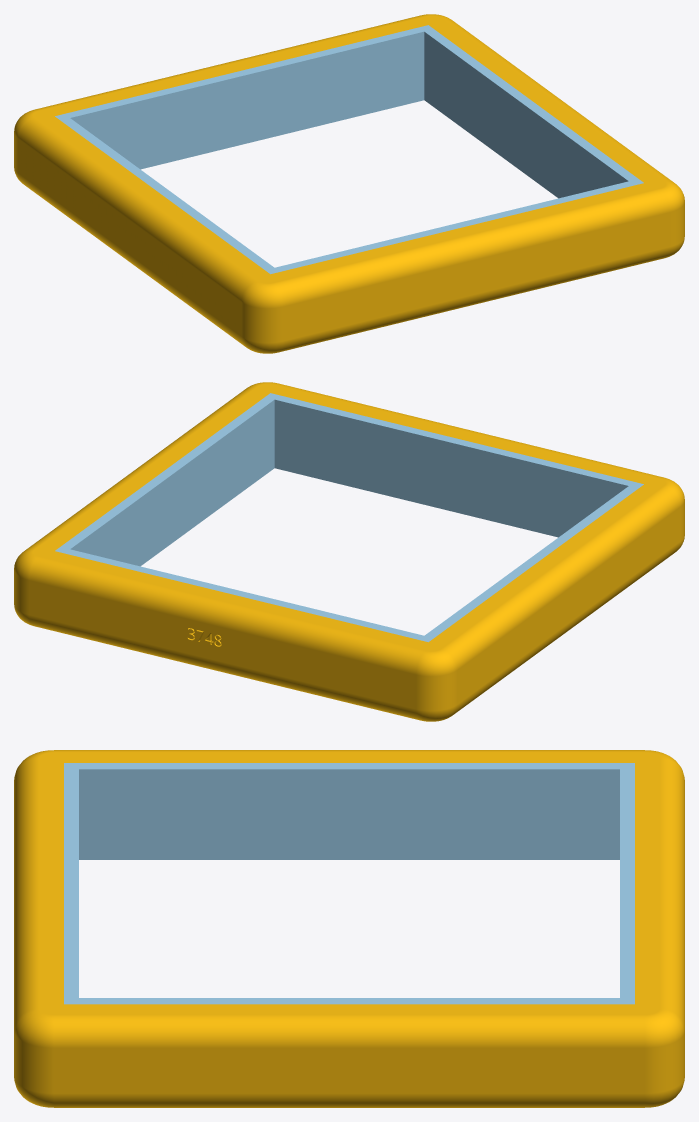
3 views of the same model, one above another, from view 1: azimuth 30°, elevation 25°; view 2: azimuth 150°, elevation 25°; view 3: azimuth 270°, elevation 25° (orthographic). The views are drawn at different scales.
Visible parts, largest first — view 1: Part 5, Part 2, Part 1, Part 3, Part 4; view 2: Part 5, Part 4, Part 1, Part 3, Part 2; view 3: Part 5, Part 3, Part 1, Part 2, Part 4.
Boxes of the visible parts, x1,y1,x2,y2 form: Part 5: [14, 14, 684, 353]; Part 2: [65, 27, 424, 169]; Part 1: [419, 25, 643, 198]; Part 3: [55, 114, 279, 274]; Part 4: [275, 181, 633, 271]; Part 5: [14, 382, 684, 721]; Part 4: [274, 395, 633, 537]; Part 1: [55, 393, 279, 566]; Part 3: [419, 482, 643, 642]; Part 2: [65, 549, 423, 639]; Part 5: [14, 750, 684, 1107]; Part 3: [64, 763, 634, 859]; Part 1: [64, 998, 634, 1004]; Part 2: [620, 769, 634, 997]; Part 4: [64, 769, 78, 997].
Bounding box in the file's own units: 0.8509 × 0.127 × 0.8509.
